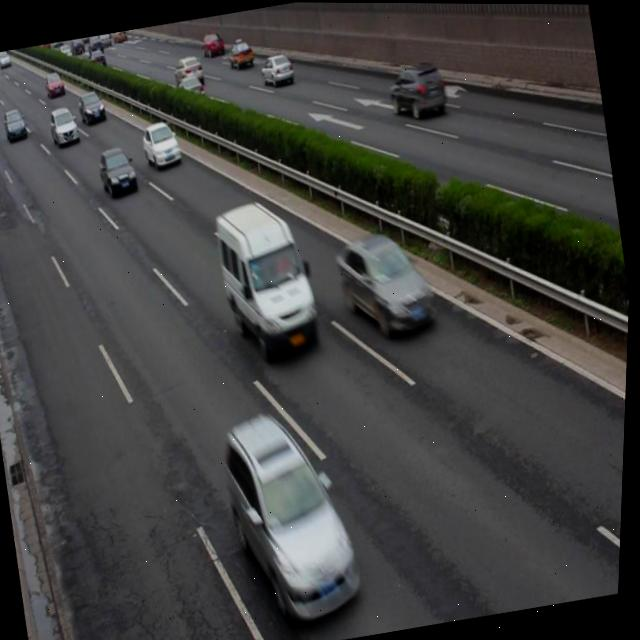car: (217, 402, 372, 631), (333, 222, 440, 343), (383, 54, 451, 124), (96, 142, 141, 198), (139, 117, 185, 170), (257, 49, 297, 89), (48, 104, 83, 149), (174, 74, 207, 108), (225, 38, 256, 70)
truck: (207, 191, 326, 363)
